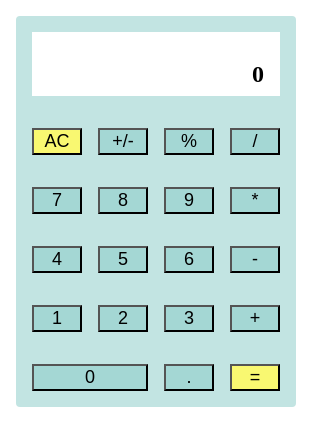
Test case: Calculator behavior › should multiply two numbers
Click the button "2": (123, 318) 98,304 -> 148,332
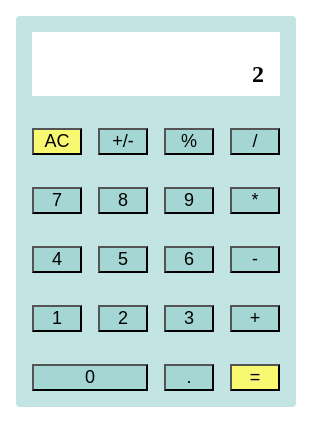
Click the button "*": (255, 200) 230,186 -> 280,214
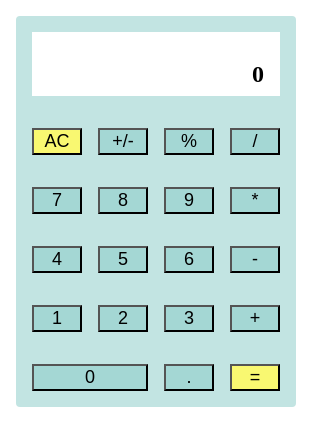
Click the button "2": (123, 318) 98,304 -> 148,332
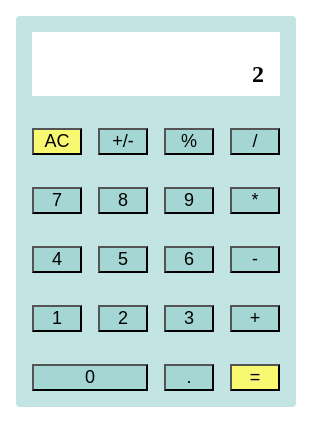
Click the button "=": (255, 377) 230,364 -> 280,390
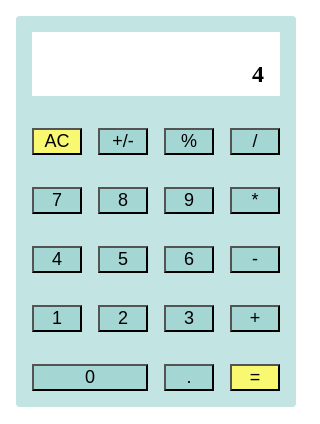
Result: the text with test id "screen" reads "4" at 252,60 -> 264,86
